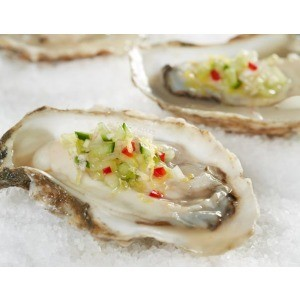oyster_brain food: (8, 126, 248, 224), (179, 45, 296, 96)
